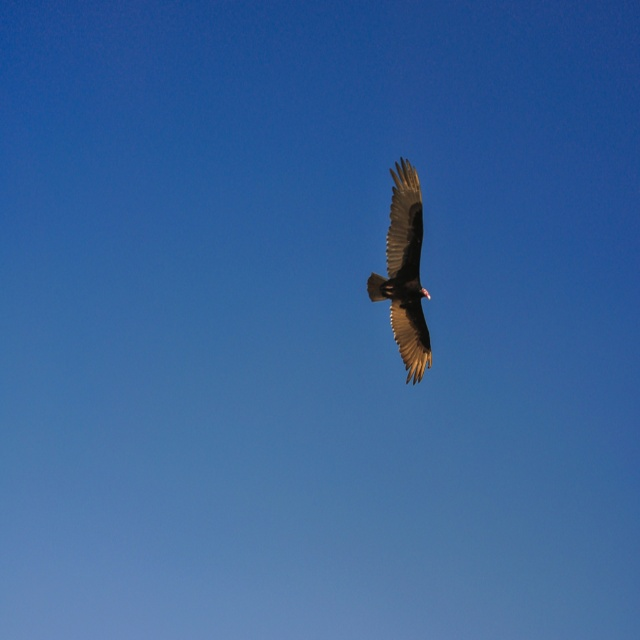Eagle: (368, 154, 442, 393)
